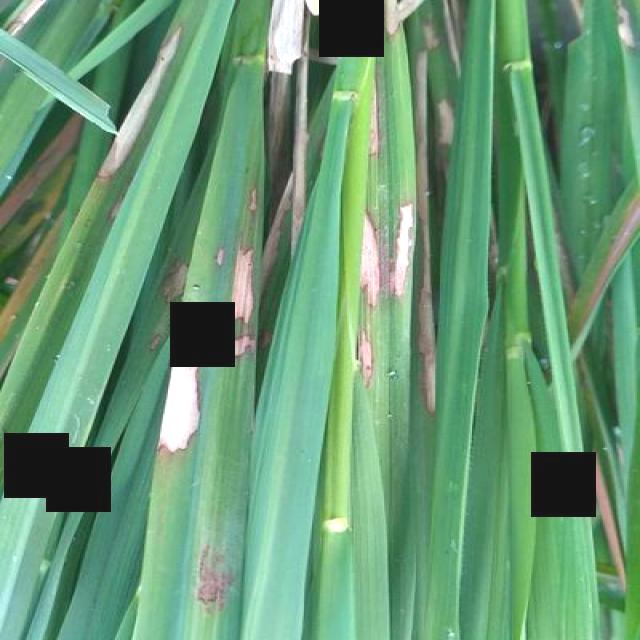Bacterial_Leaf_Blight: (157, 244, 256, 458), (356, 75, 415, 392), (96, 24, 182, 220), (412, 46, 433, 416), (586, 181, 640, 318), (426, 20, 456, 144)
